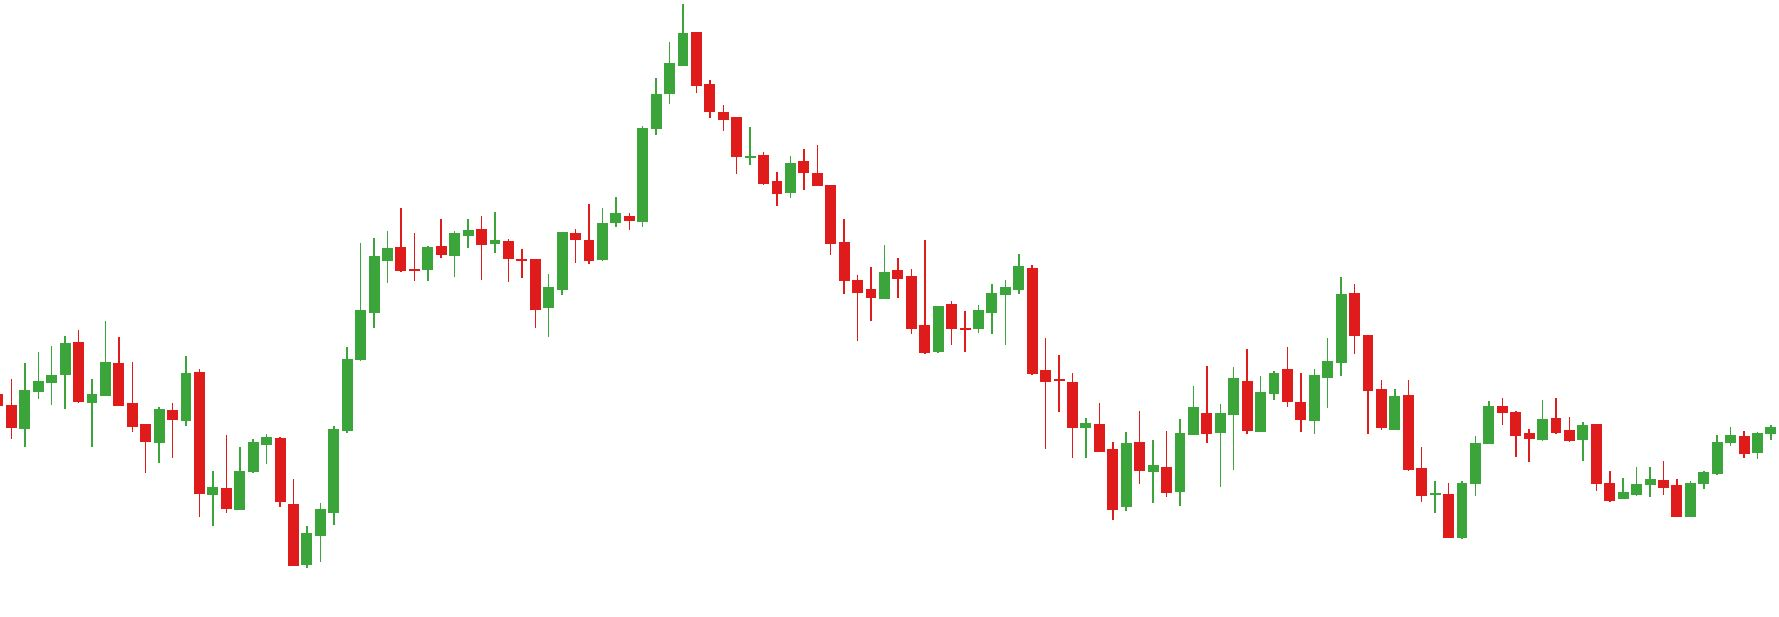sell: (1239, 279, 1376, 409)
